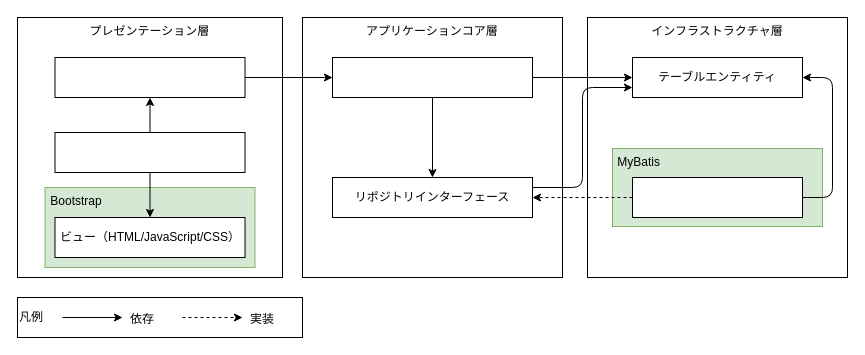
The diagram is 865 pixels wide and 355 high, and some of its shapes have lost their labels. Here are the shapes that lost their labels. From the top down, the centre of each, then its label:
At point (149, 77): "コントローラー".
At point (432, 77): "アプリケーションサービス".
At point (149, 152): "ビューモデル".
At point (717, 197): "リポジトリ".
